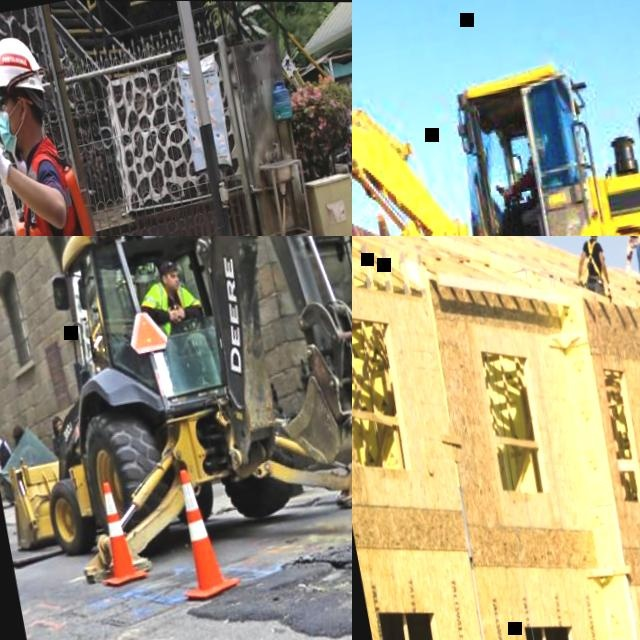Hardhat: (0, 30, 49, 102)
Mask: (0, 98, 31, 154)
NO-Hardhat: (157, 257, 178, 275), (11, 423, 25, 436), (50, 414, 63, 425)
NO-Mask: (166, 277, 181, 292)
NO-Safety Vest: (583, 237, 605, 279), (523, 154, 543, 200), (0, 436, 12, 470), (52, 432, 64, 454)
Person: (0, 22, 174, 236), (484, 133, 567, 236), (133, 255, 206, 337), (568, 236, 614, 300), (0, 427, 21, 503), (613, 236, 640, 291), (49, 413, 71, 456), (11, 422, 27, 444)
Safety Cone: (166, 466, 245, 605), (89, 479, 151, 588)
Safety Vest: (0, 157, 114, 236), (148, 278, 198, 337)
machinery: (0, 236, 352, 597), (352, 0, 640, 236), (352, 20, 451, 236)
vehicle: (335, 90, 352, 177)
